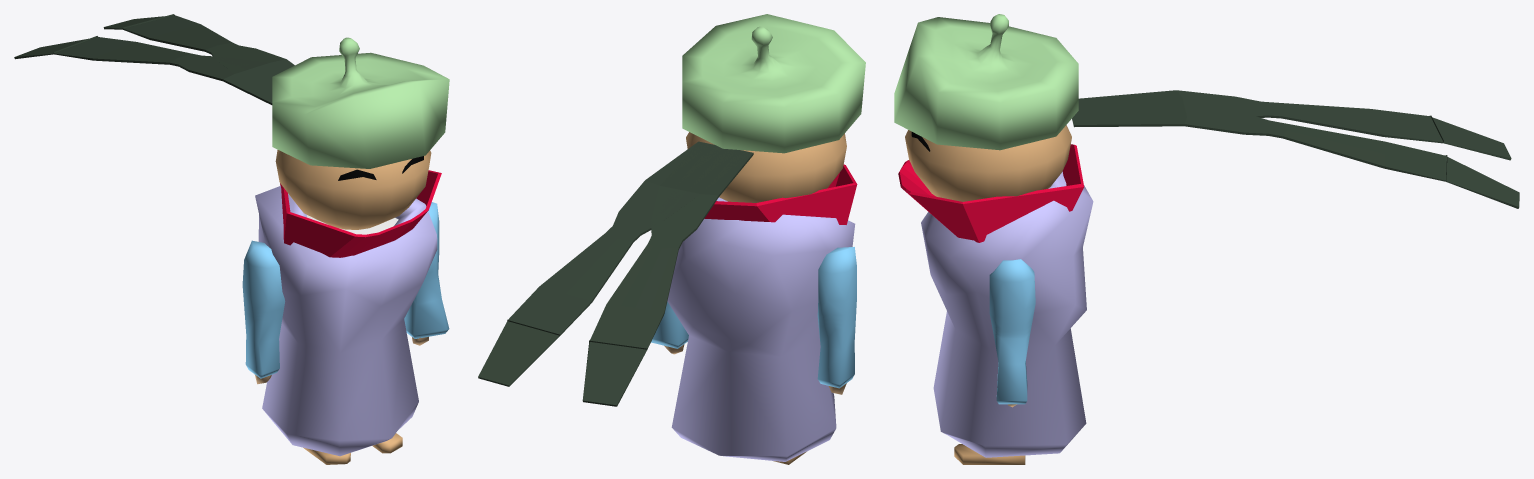
The model's file is chief lydia.fbx.
3 views of the same model, side by side, from view 1: azimuth 30°, elevation 25°; view 2: azimuth 150°, elevation 25°; view 3: azimuth 270°, elevation 25° (orthographic). The views are drawn at different scales.
Parts seen in each view (by area): view 1: Circle.013, Circle.015; view 2: Circle.013, Circle.015; view 3: Circle.013, Circle.015.
Part boxes in pixels (x1,y1,x2,y2): Circle.013: [242, 37, 449, 464]; Circle.015: [14, 14, 294, 104]; Circle.013: [651, 14, 865, 464]; Circle.015: [478, 141, 753, 406]; Circle.013: [894, 14, 1093, 464]; Circle.015: [1072, 90, 1519, 208].
Bounding box in the file's own units: 177 × 346 × 456.
